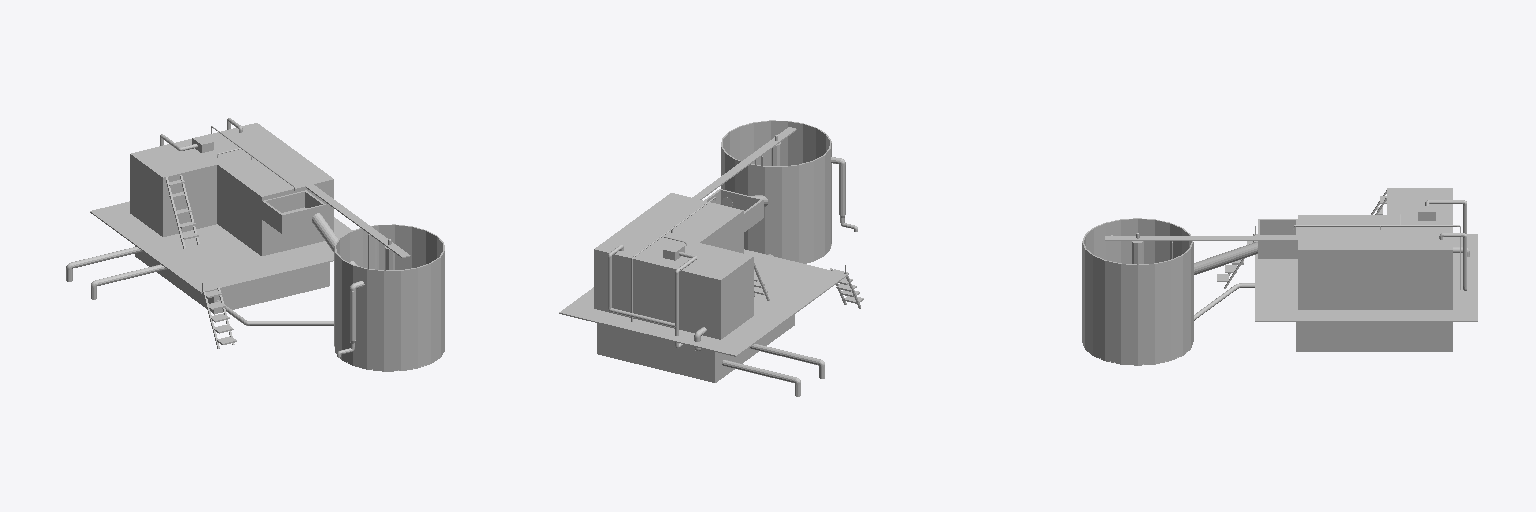
Rendered from sedimentation_tank.obj.
3 renders of one model, left to right at view 1: azimuth 30°, elevation 25°; view 2: azimuth 150°, elevation 25°; view 3: azimuth 270°, elevation 25°, orthographic.
Visible parts, largest first — view 1: __, ___.2, ___, ___.28, ___.5, ___.8, ___.3, ___.9, __.8, ___.4; view 2: __, ___.5, ___.2, ___, ___.6, ___.9, ___.3, __.8, ___.28; view 3: __, ___, ___.2, ___.5, ___.7, ___.28, ___.3, __.2, ___.4.
Boxes of the visible parts, box(x1,y1,x2,y2) form: __: box(66, 224, 444, 371); ___.2: box(90, 184, 410, 310); ___: box(180, 147, 376, 333); ___.28: box(131, 123, 287, 236); ___.5: box(130, 124, 289, 348); ___.8: box(202, 262, 329, 313); ___.3: box(183, 135, 325, 344); ___.9: box(135, 175, 214, 314); __.8: box(74, 247, 166, 285); ___.4: box(169, 192, 322, 297); __: box(721, 120, 845, 396); ___.5: box(594, 225, 860, 339); ___.2: box(559, 127, 852, 356); ___: box(628, 160, 859, 297); ___.6: box(597, 268, 846, 382); ___.9: box(715, 293, 794, 382); ___.3: box(663, 189, 863, 303); __.8: box(608, 306, 817, 382); ___.28: box(595, 225, 753, 306); __: box(1082, 218, 1193, 365); ___: box(1172, 215, 1399, 309); ___.2: box(1105, 234, 1477, 321); ___.5: box(1228, 188, 1452, 309); ___.7: box(1296, 190, 1452, 351); ___.28: box(1387, 188, 1452, 309); ___.3: box(1217, 206, 1435, 281); __.2: box(1194, 242, 1257, 274); ___.4: box(1247, 207, 1382, 244).
Bounding box in the file's own units: 5482 × 2695 × 8464.